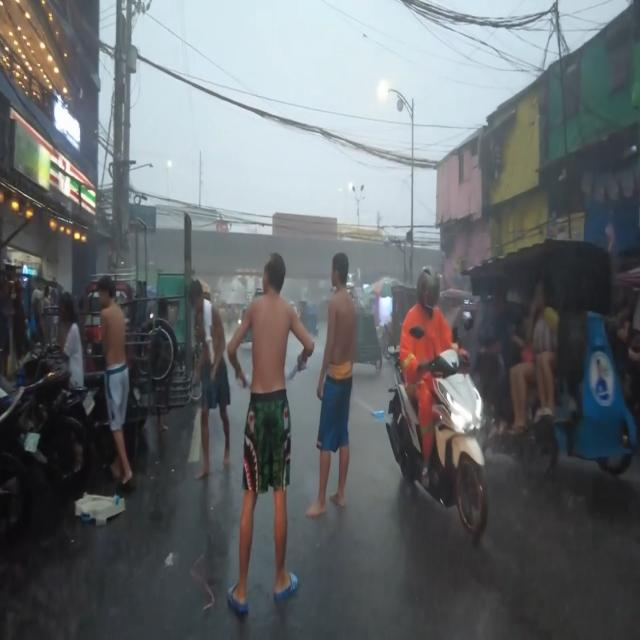full: (416, 268, 441, 315)
